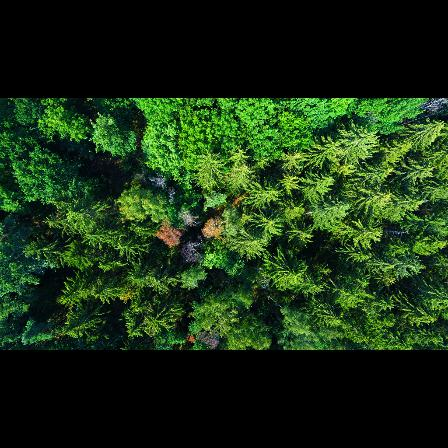Dead: (177, 238, 205, 267), (150, 172, 166, 192)
